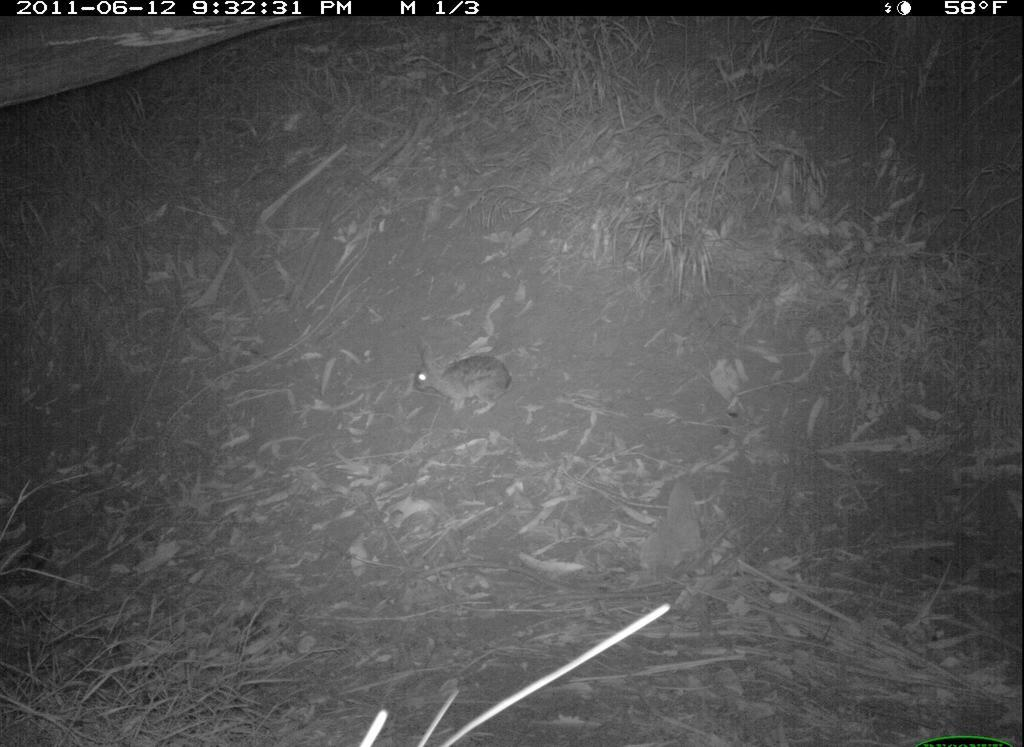rabbit: (402, 332, 524, 420)
